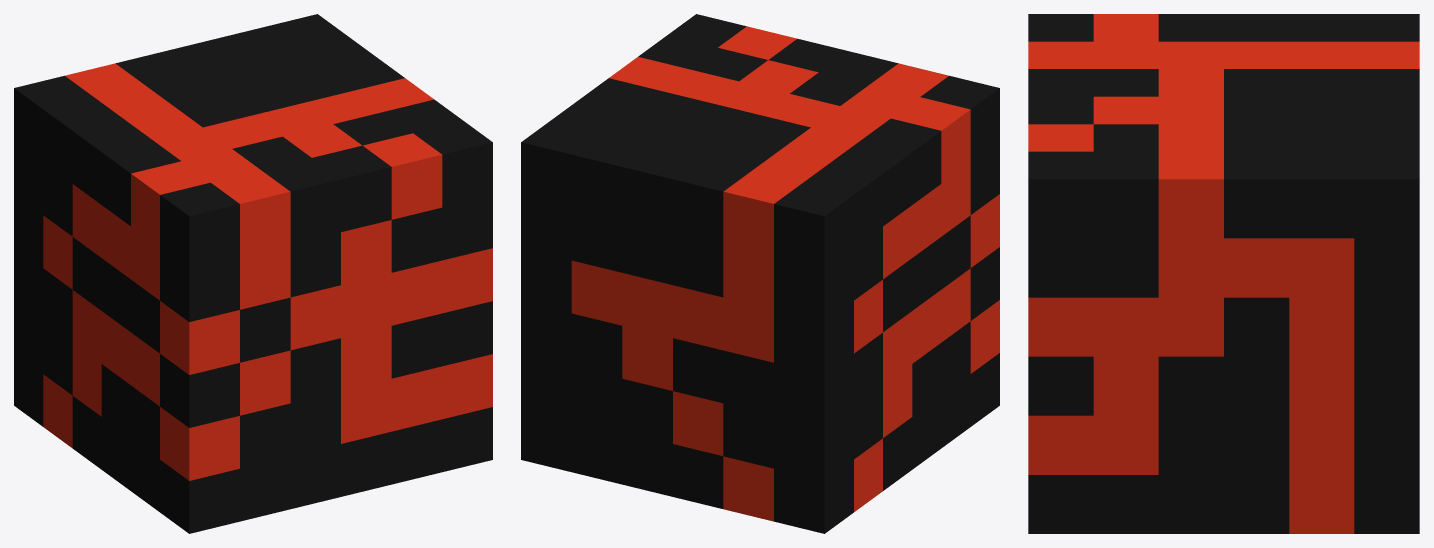
Rendered from virus_floating_idle.fbx.
3 renders of one model, left to right at view 1: azimuth 30°, elevation 25°; view 2: azimuth 150°, elevation 25°; view 3: azimuth 270°, elevation 25°, orthographic. The views are drawn at different scales.
Visible parts, largest first — view 1: virus_floating_idle; view 2: virus_floating_idle; view 3: virus_floating_idle.
Part boxes in pixels (box(x1,y1,x2,y2)): virus_floating_idle: box(14, 14, 492, 533); virus_floating_idle: box(521, 14, 999, 533); virus_floating_idle: box(1028, 14, 1419, 533).
Bounding box in the file's own units: 0.6 × 0.6 × 0.6.
Materials: 1 (1 with a texture image).
